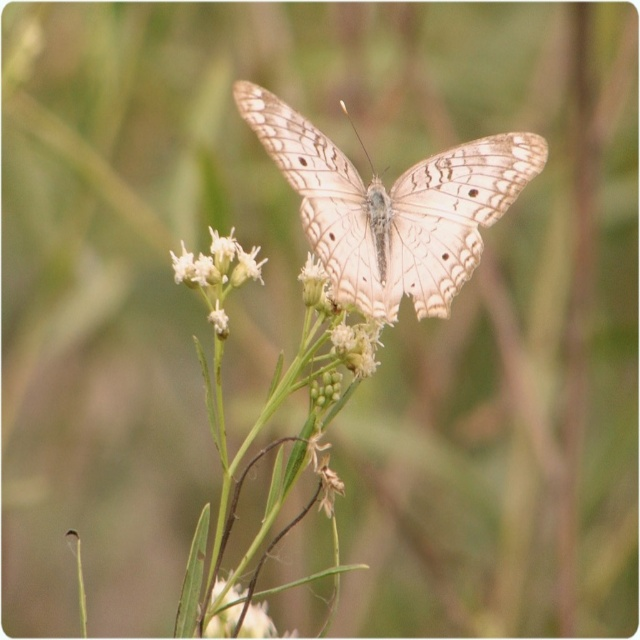Butterfly: (214, 84, 549, 324)
